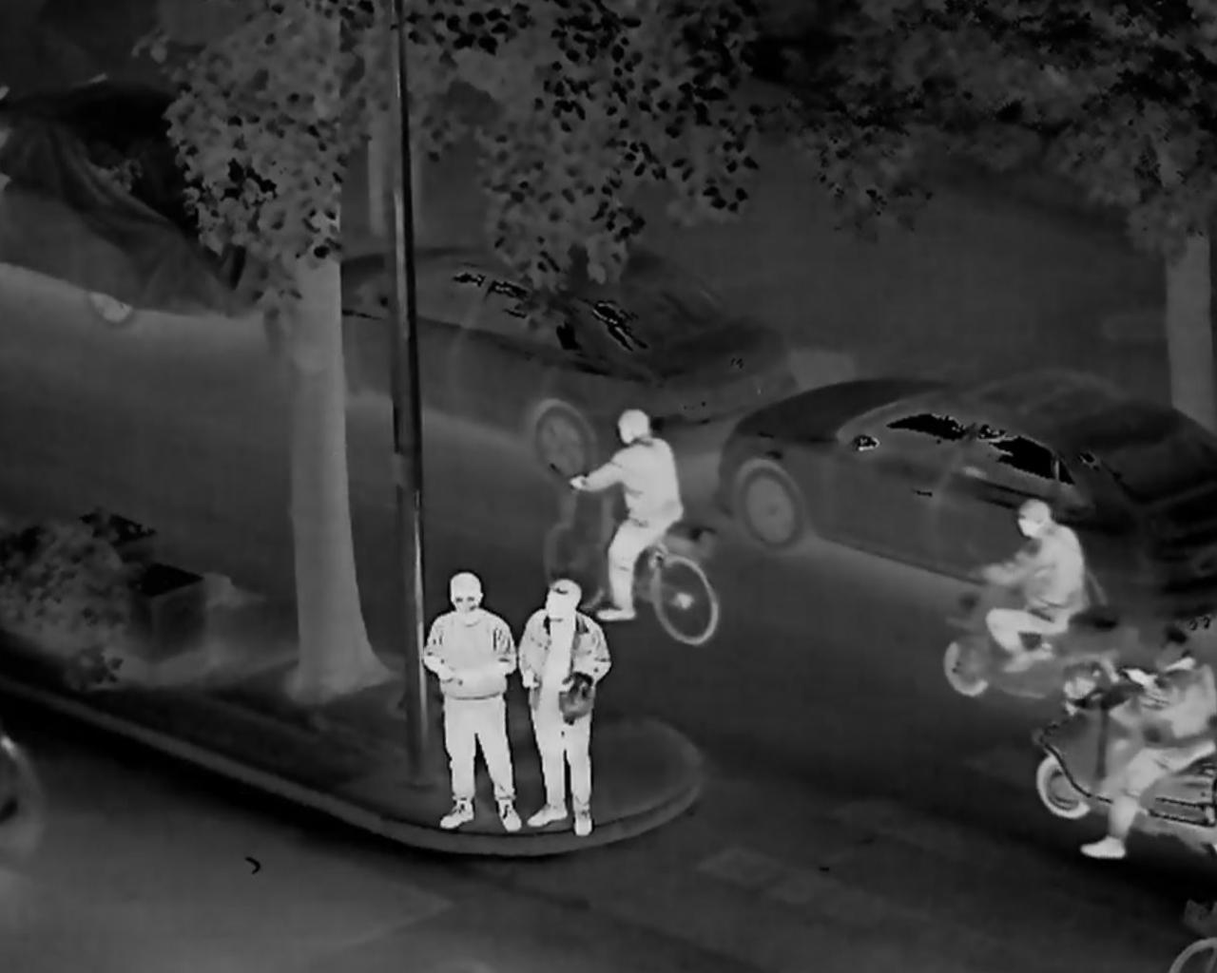person: (1093, 623, 1217, 886), (415, 567, 531, 837), (569, 404, 690, 634), (510, 572, 613, 842), (968, 480, 1091, 696)
